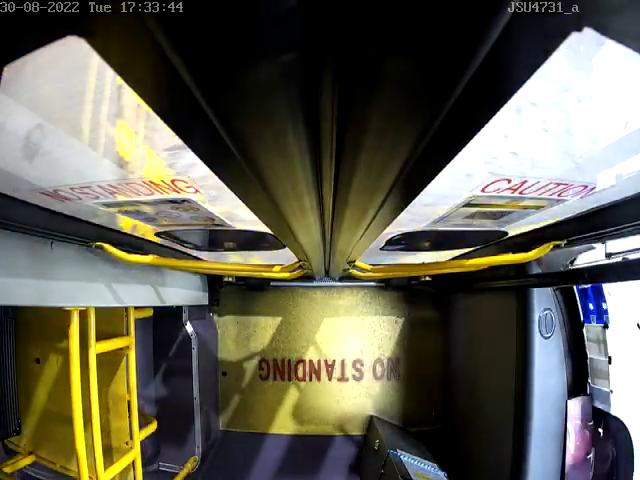close: (0, 0, 640, 86)
